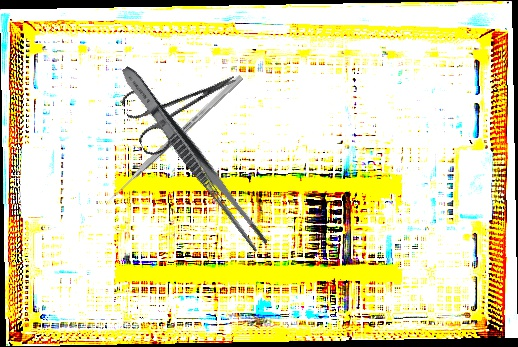Dressing Forceps: (115, 61, 272, 254)
Iris Scissors: (118, 49, 251, 160)
Pusher: (104, 74, 244, 205)
